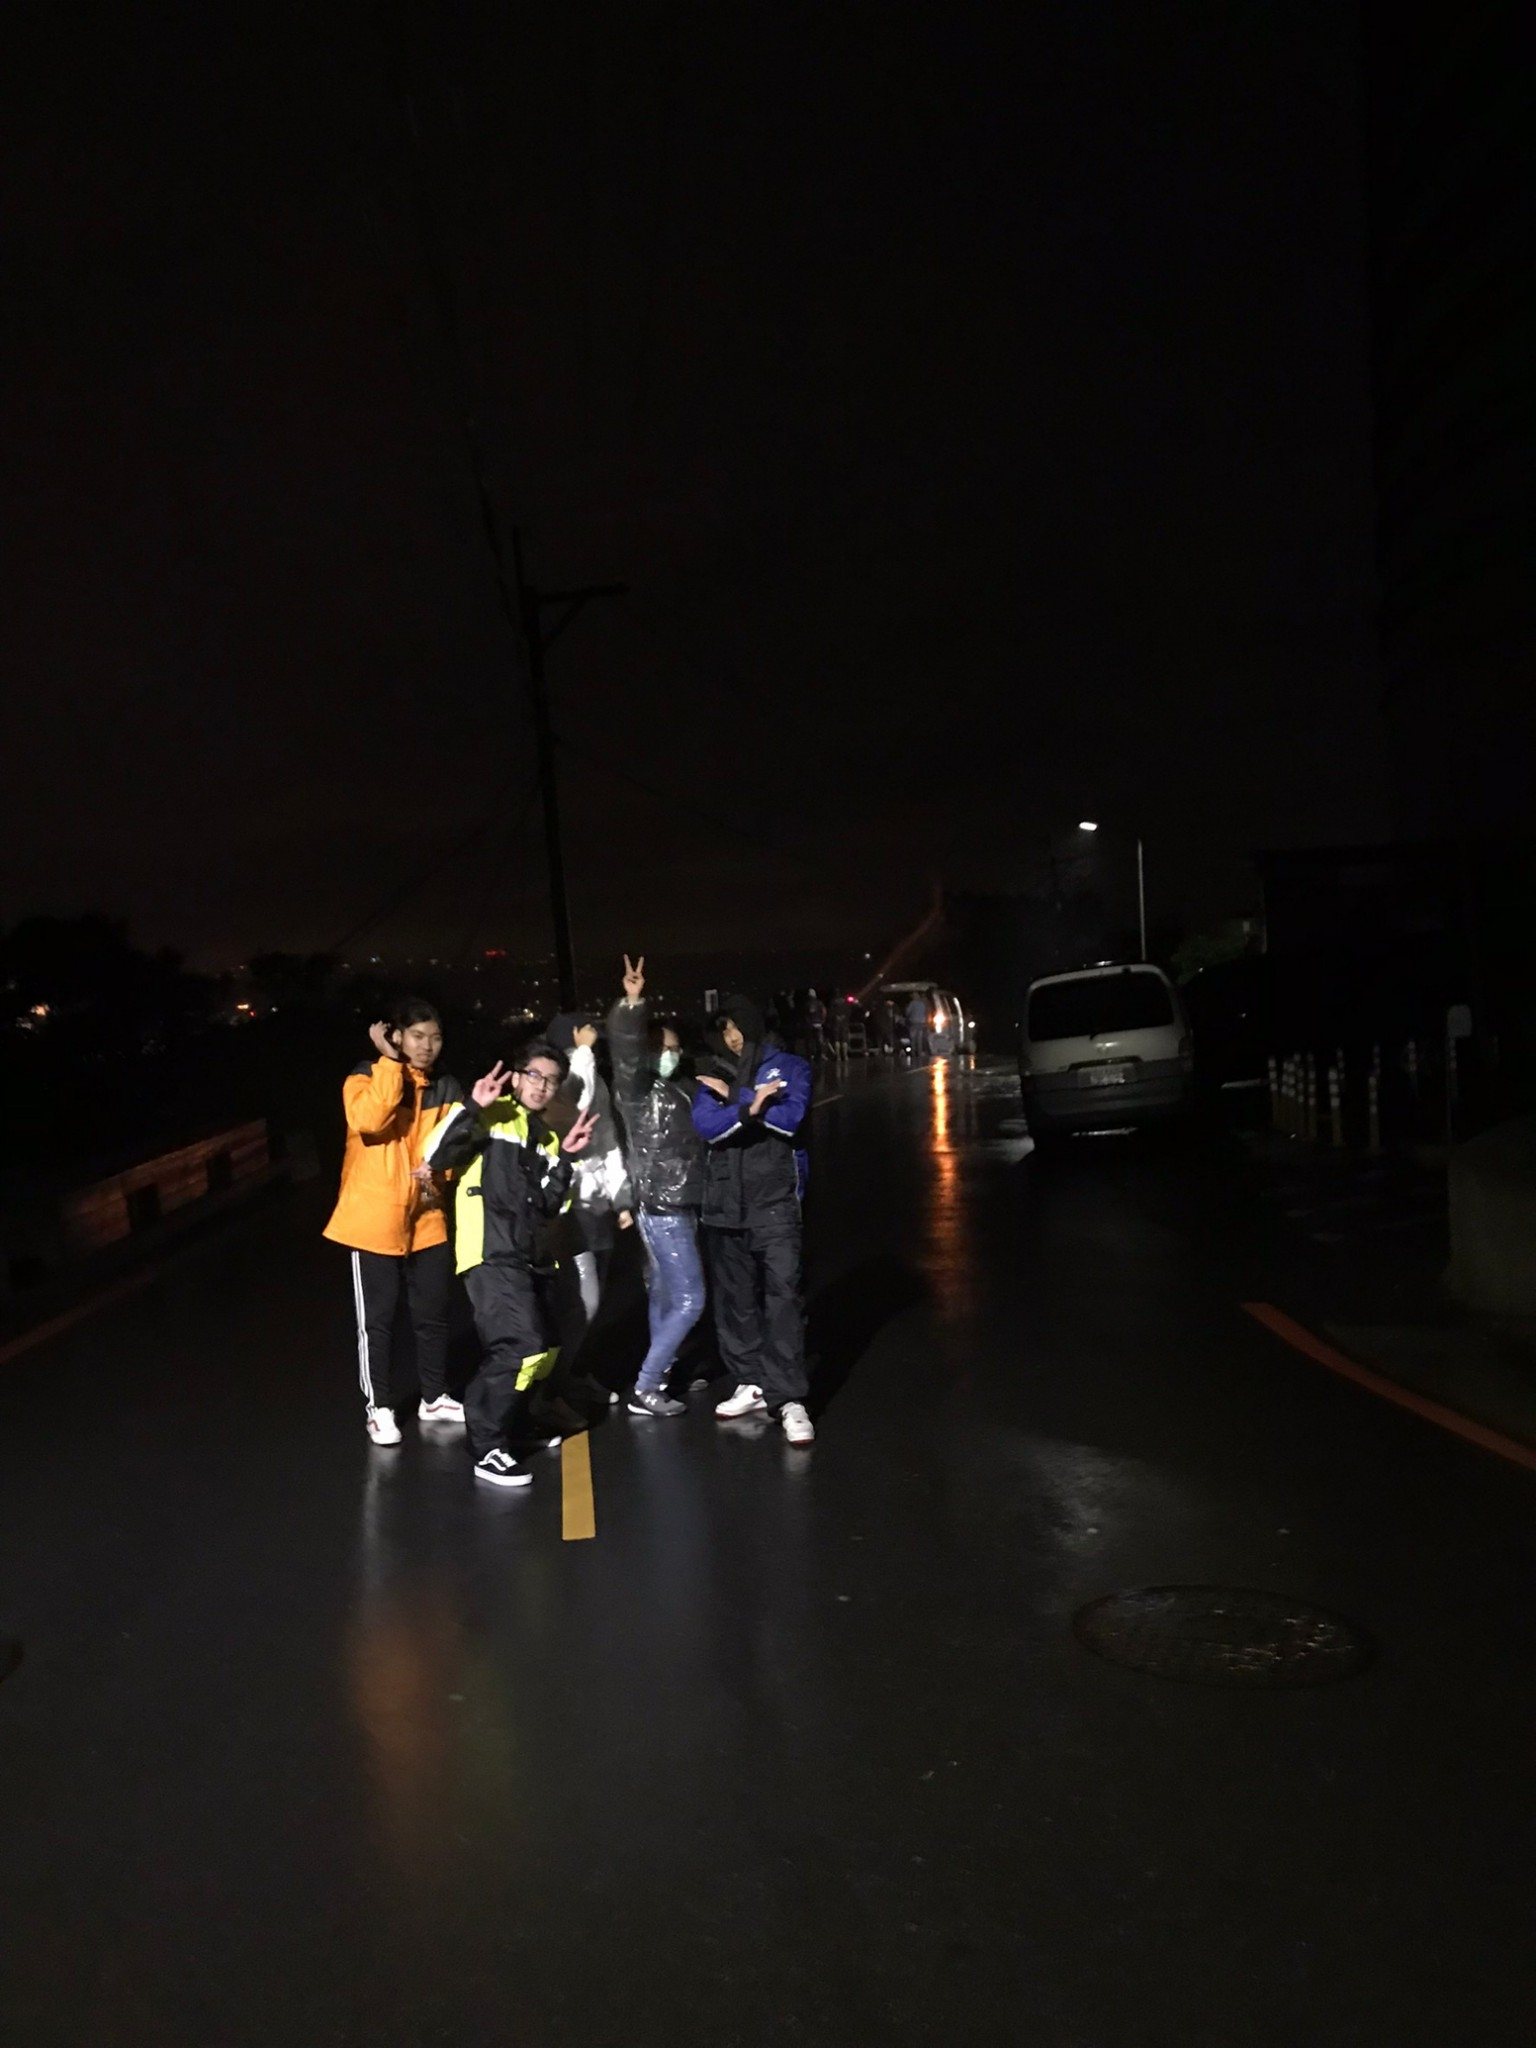people: (682, 976, 837, 1464), (469, 1044, 608, 1499), (360, 1005, 466, 1460), (553, 993, 647, 1405), (640, 1022, 702, 1431)
